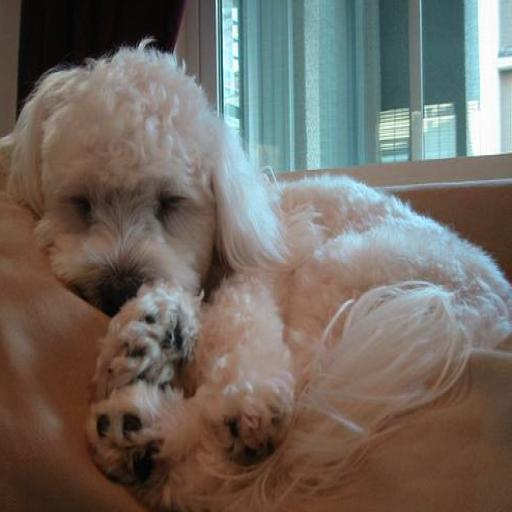dog_face: (25, 65, 216, 300)
